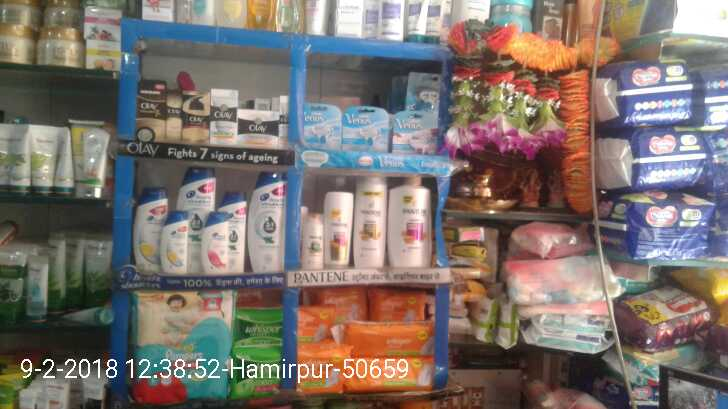venus: (388, 113, 438, 152), (345, 107, 385, 154), (302, 107, 342, 141), (398, 75, 437, 104)
